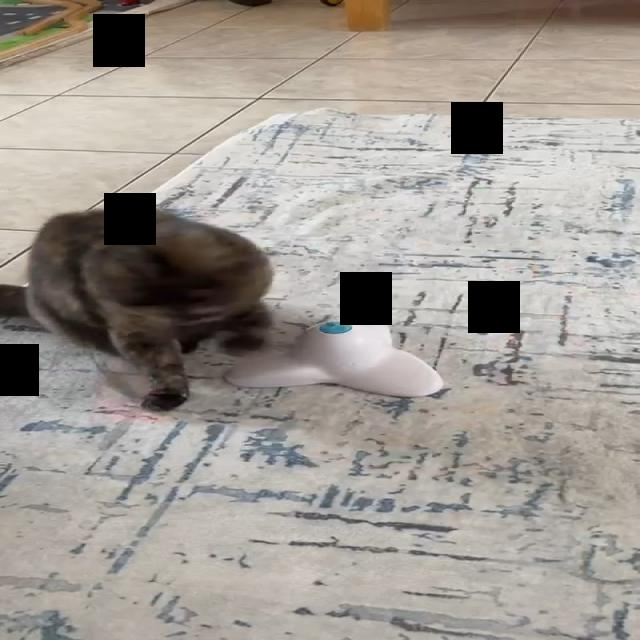authorized: (0, 205, 275, 412)
